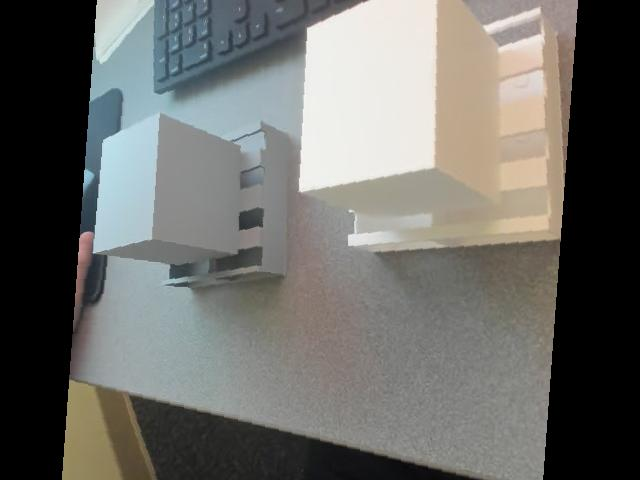grey pallet: (82, 106, 306, 289)
white pallet: (283, 0, 595, 262)
